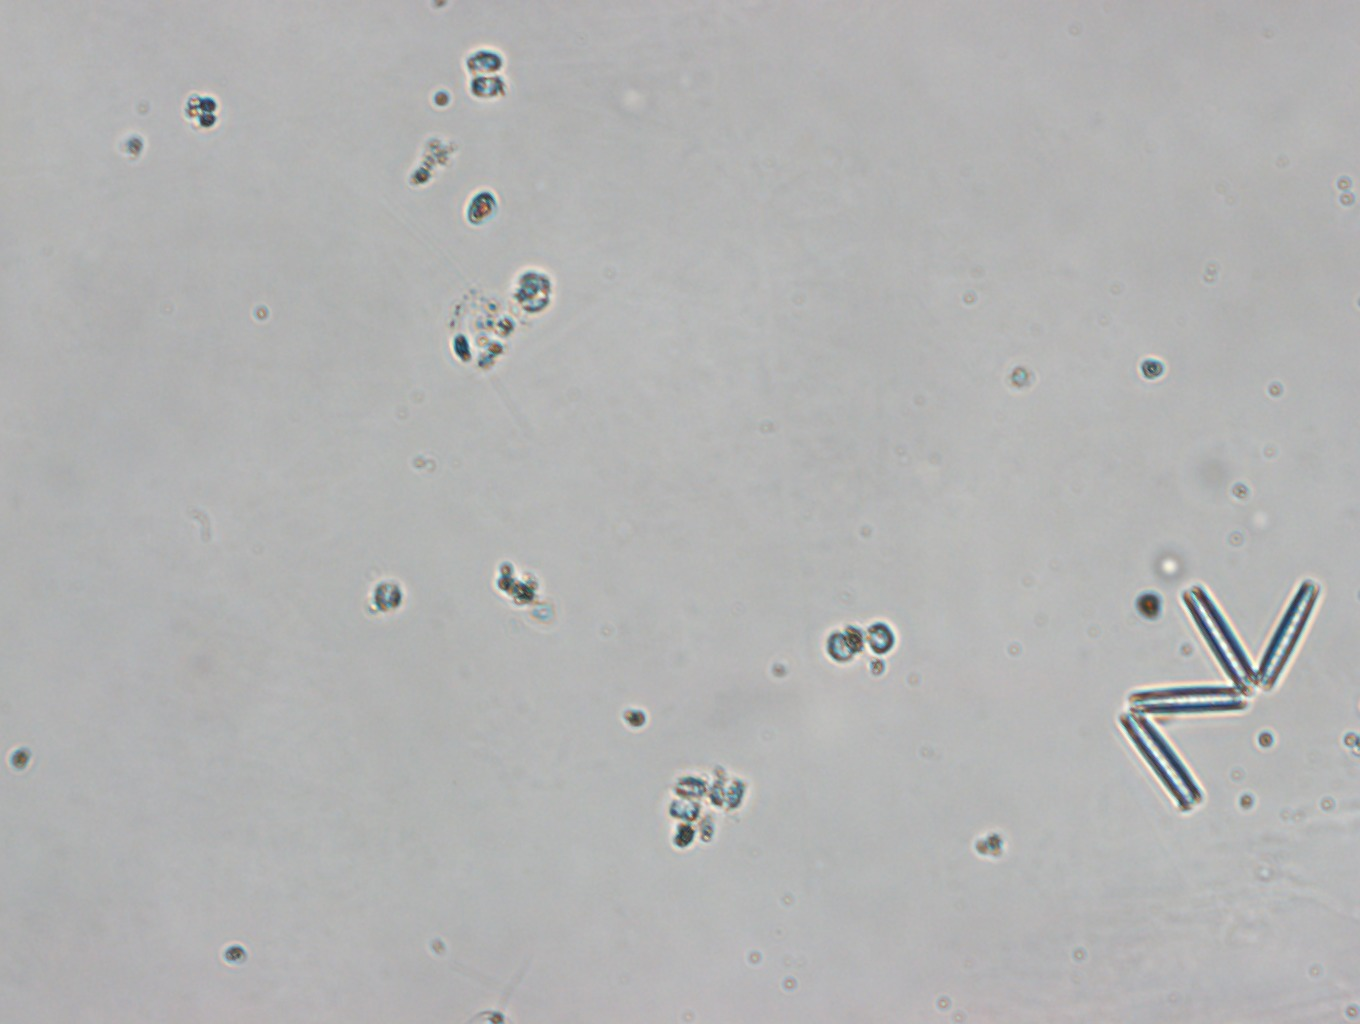thalassionema nitzschioides: (1115, 579, 1323, 815)
